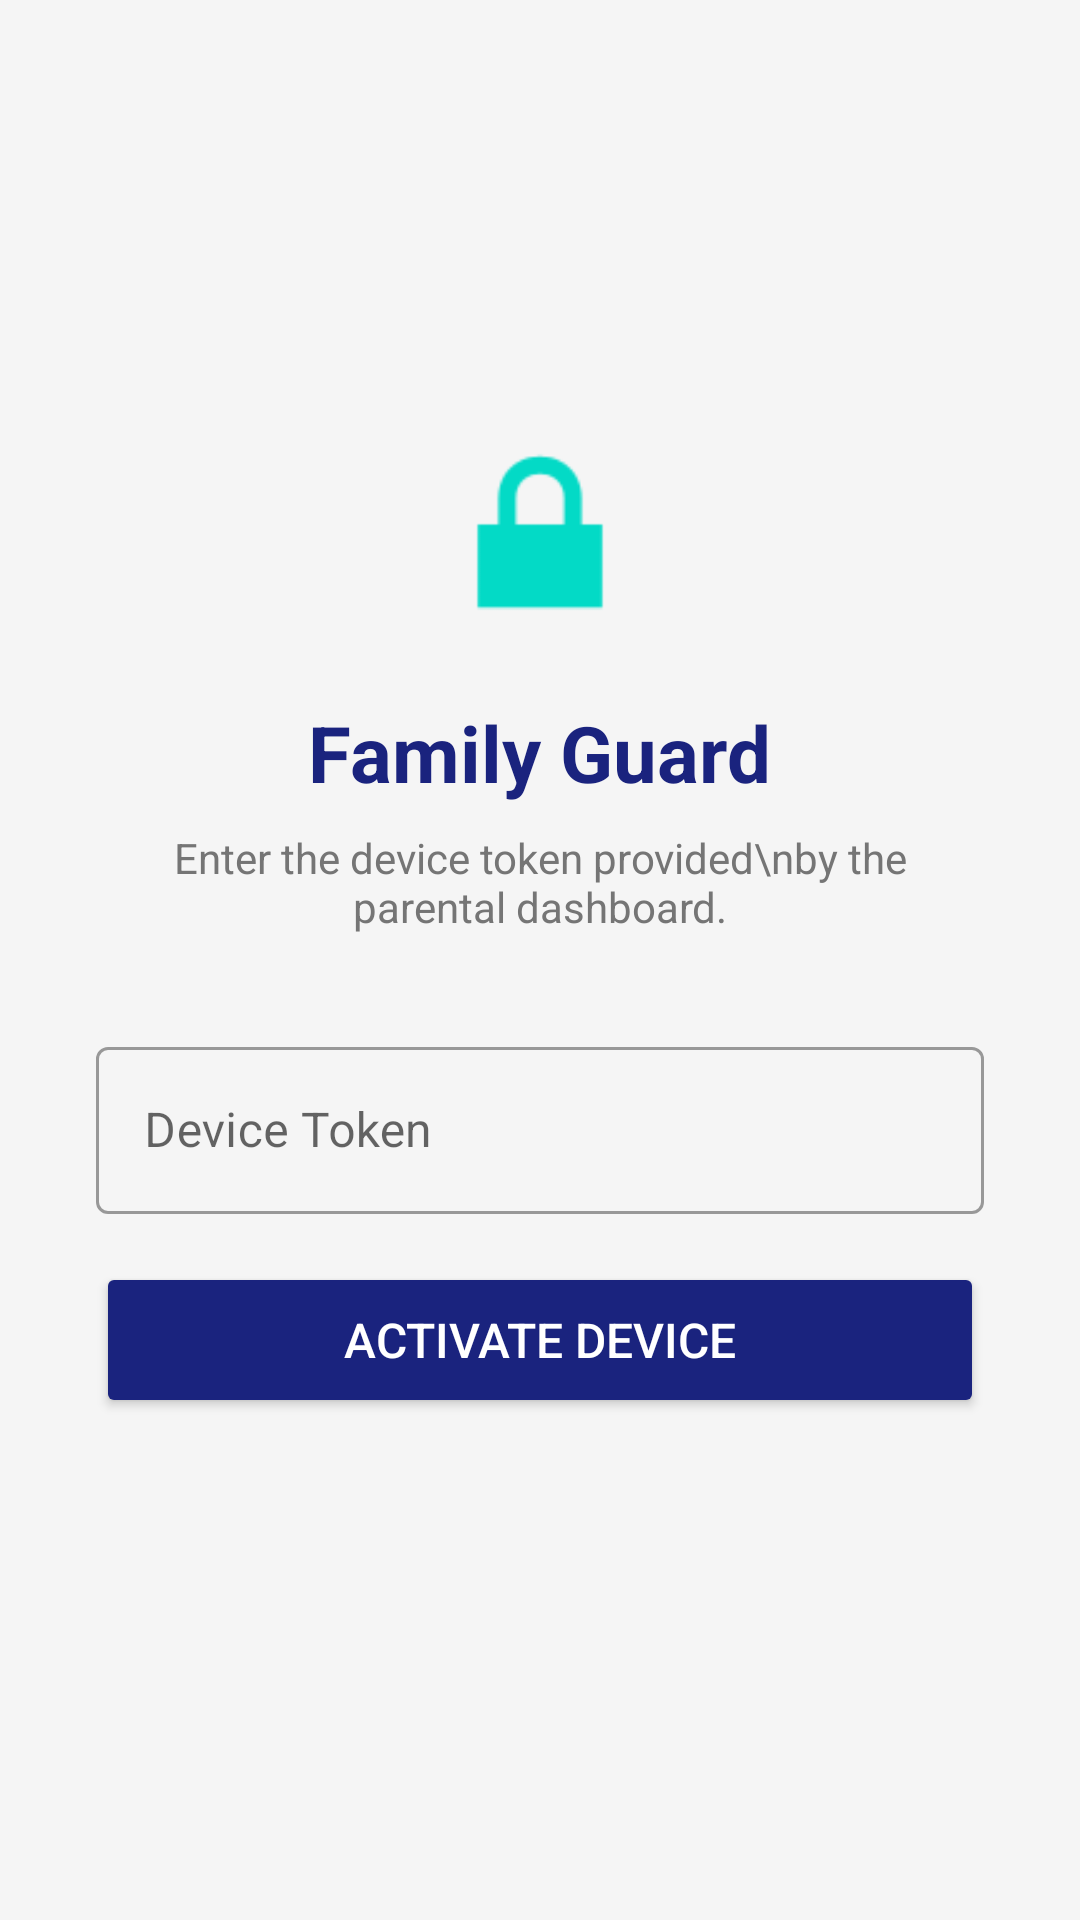

Icons on this 1080 × 1920 Android screen, each with its box as (x1, y1, x2, y2):
lock: (477, 455, 603, 609)
